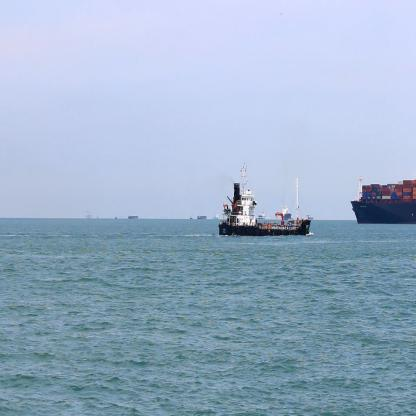Container Ship: (215, 158, 311, 241), (348, 173, 415, 228), (82, 209, 94, 222), (126, 213, 140, 222), (196, 212, 207, 222)
